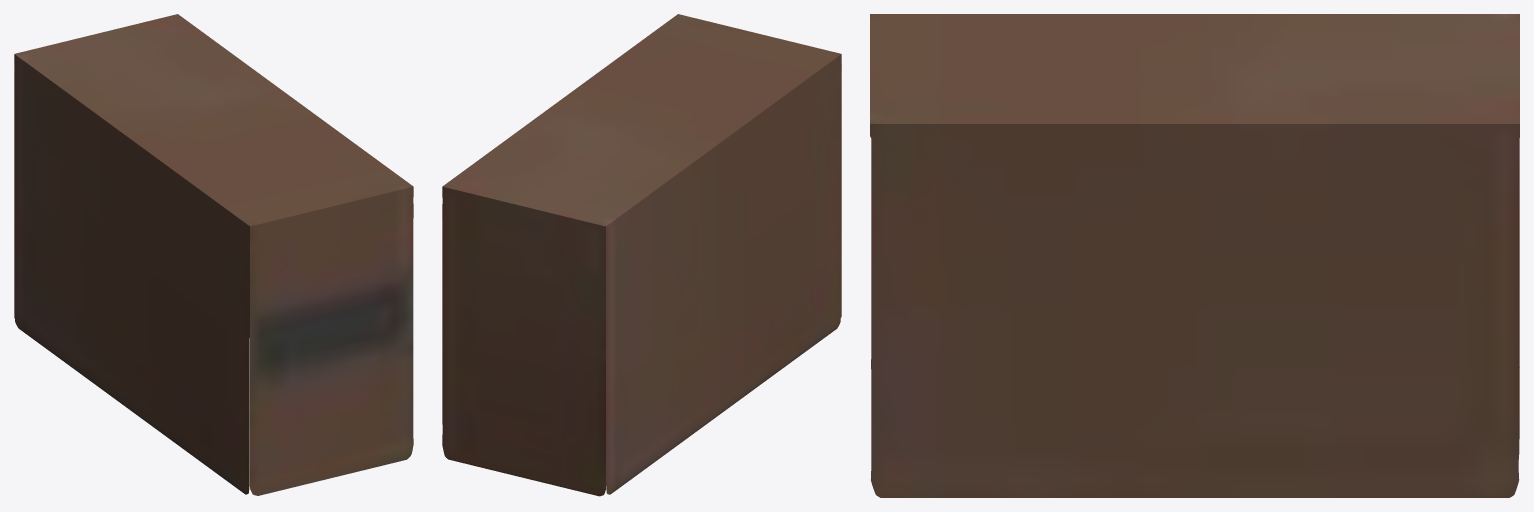
The model's file is desk-pedestal--3.gltf.
3 views of the same model, side by side, from view 1: azimuth 30°, elevation 25°; view 2: azimuth 150°, elevation 25°; view 3: azimuth 270°, elevation 25° (orthographic). The views are drawn at different scales.
Visible parts, largest first — view 1: Cabinet_3; view 2: Cabinet_3; view 3: Cabinet_3.
Boxes of the visible parts, x1,y1,x2,y2 form: Cabinet_3: (14, 14, 413, 495); Cabinet_3: (442, 14, 841, 496); Cabinet_3: (870, 14, 1519, 497).
Size of the model in its own units: 0.4355 by 0.6904 by 1.09.
1 material, 1 textured.
